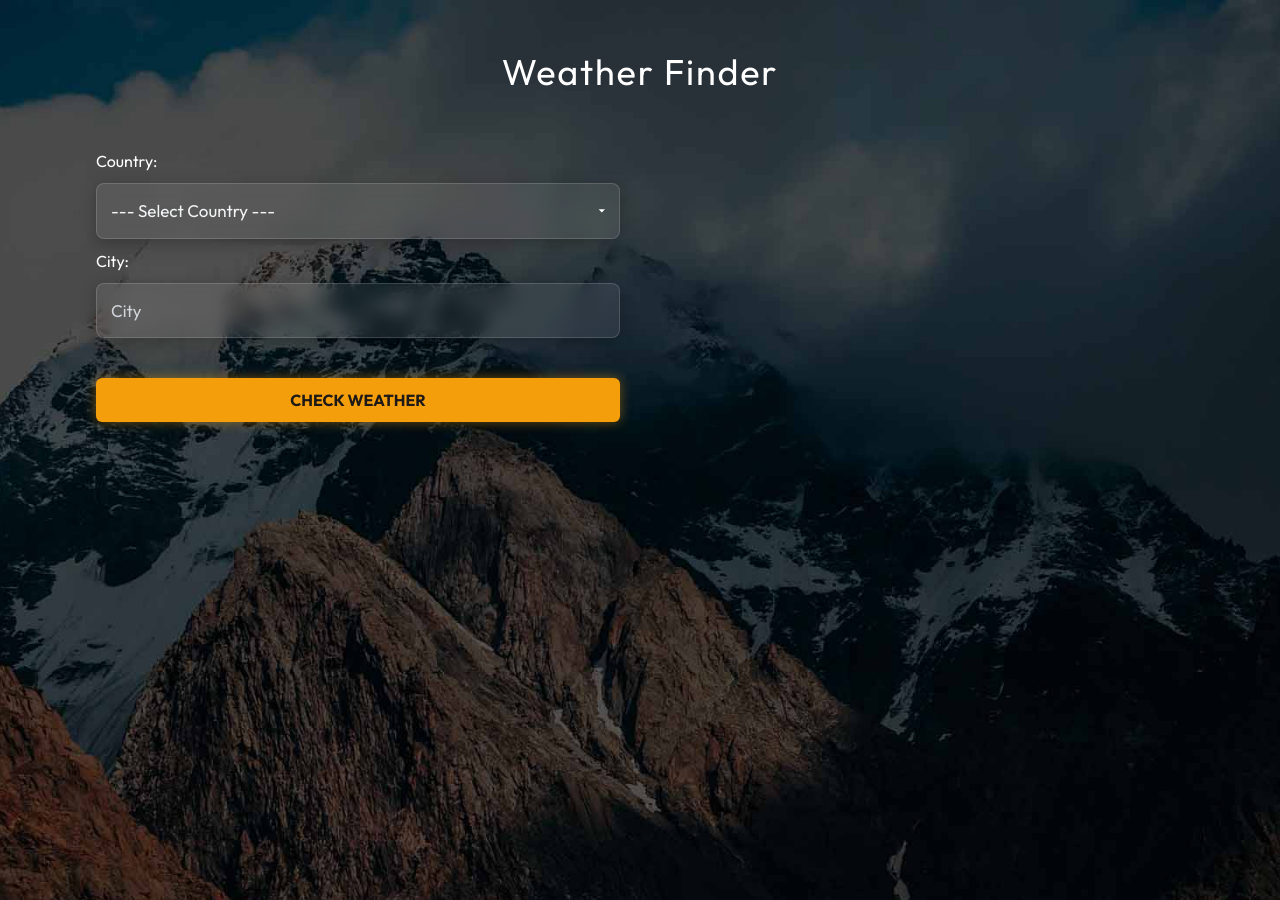
Scenario: App › shows an announced alert when the request fails
Step 1. Select "Colombia" in the dropdown labelled "Country:" → [358, 211], box [96, 183, 620, 238]
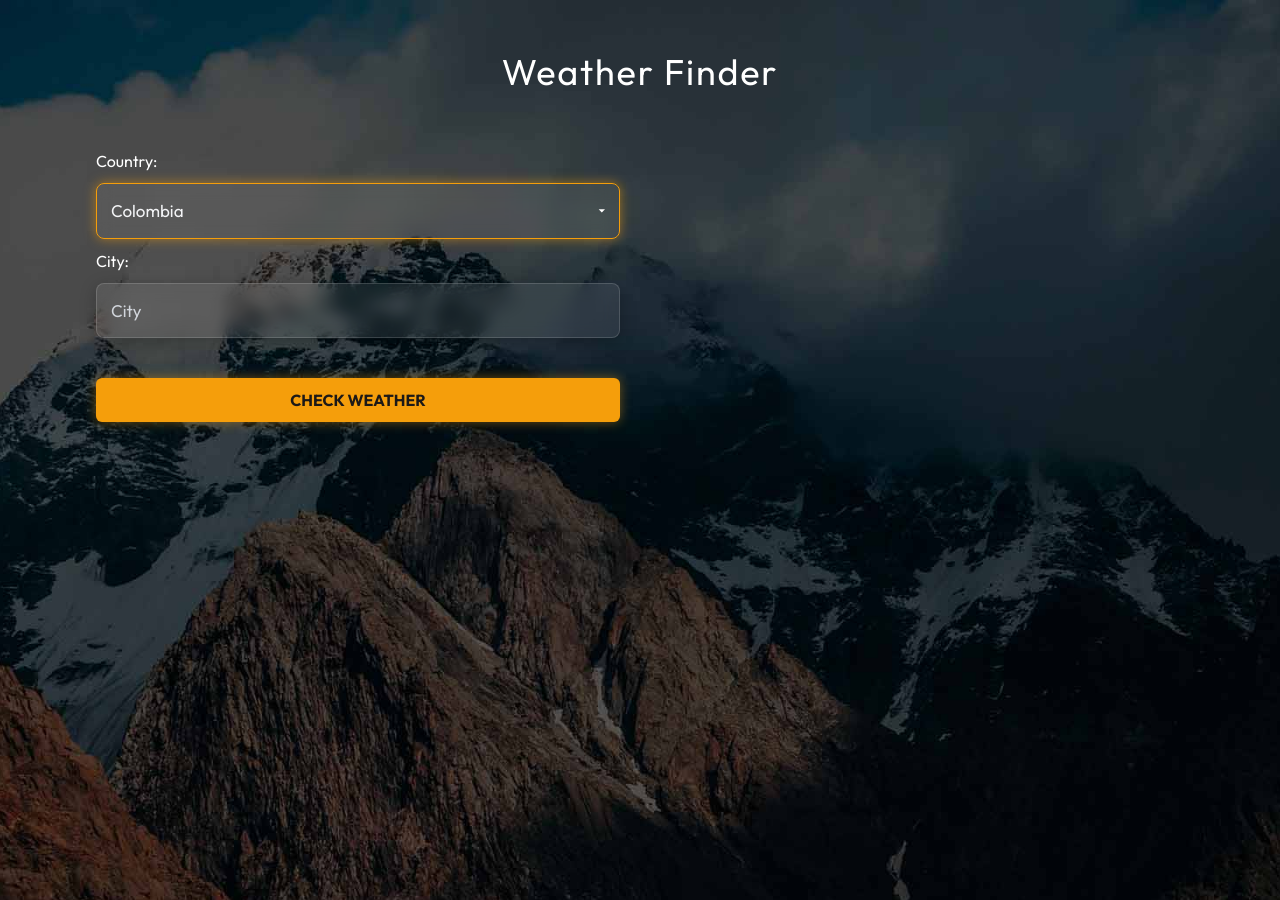
Step 2. Type "Bogotá" into the field labelled "City:" → [358, 310], box [96, 282, 620, 338]
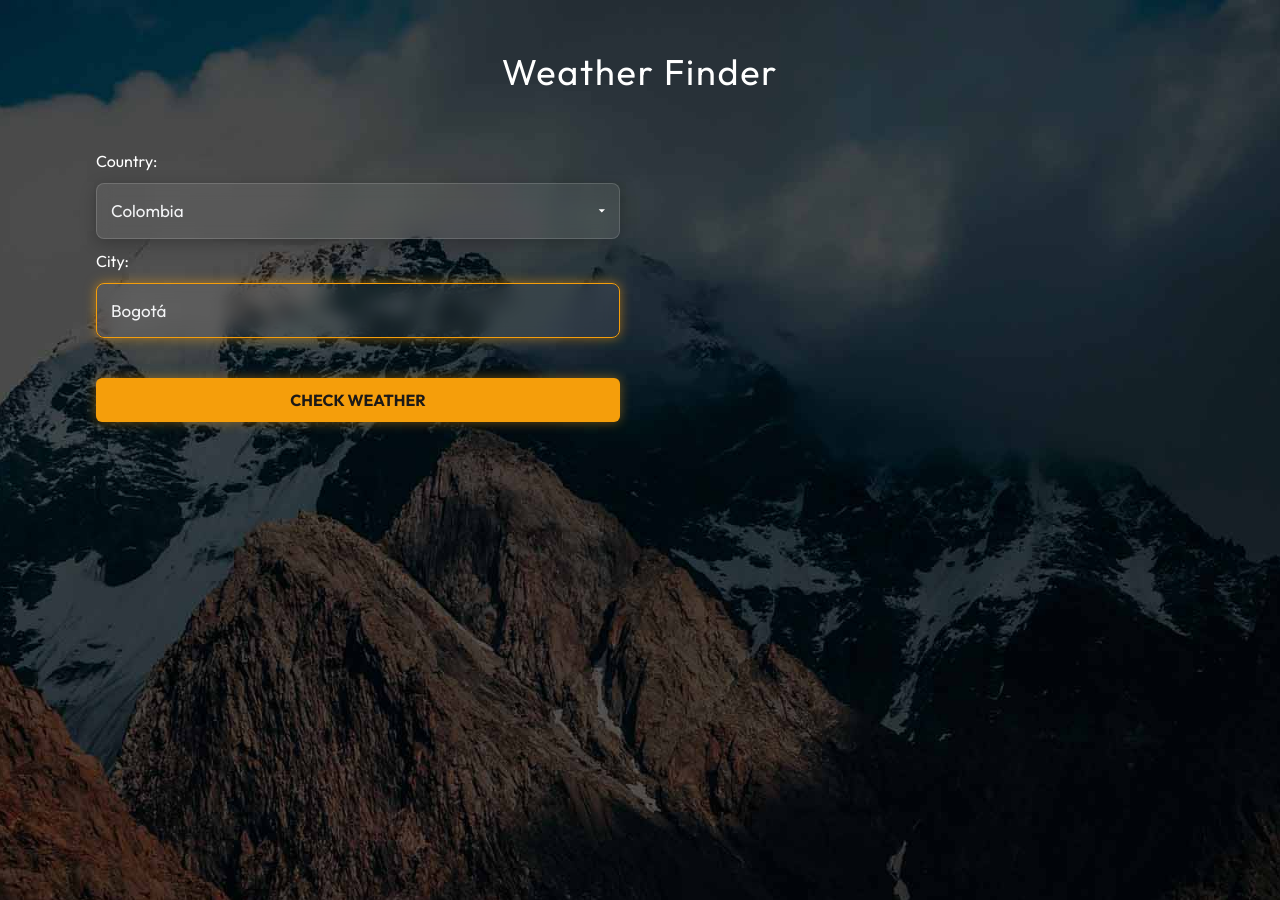
Step 3. Click the button "Check weather" → [358, 400], box [96, 378, 620, 422]
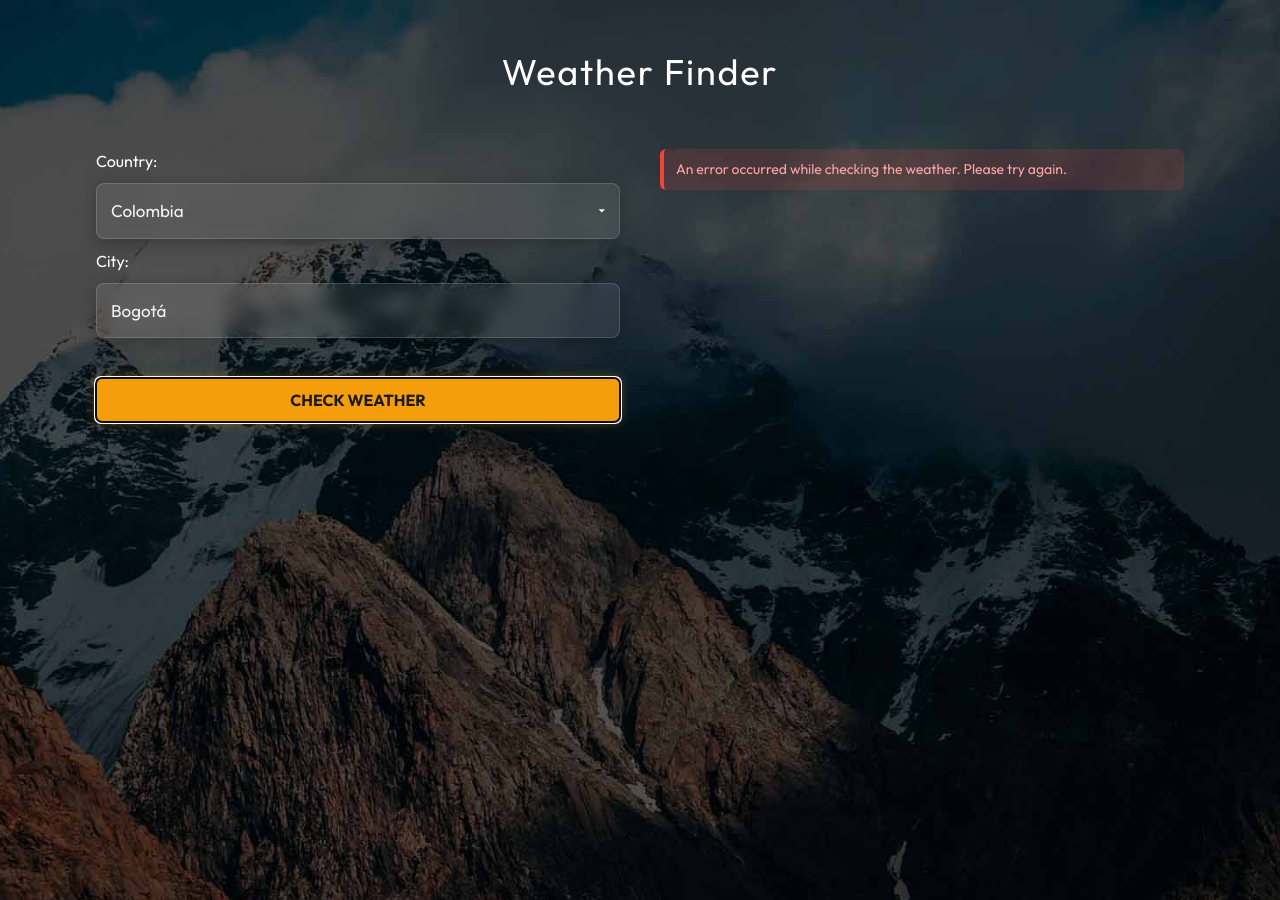
Expected: the message shows "An error occurred", [676, 160, 1067, 178]
